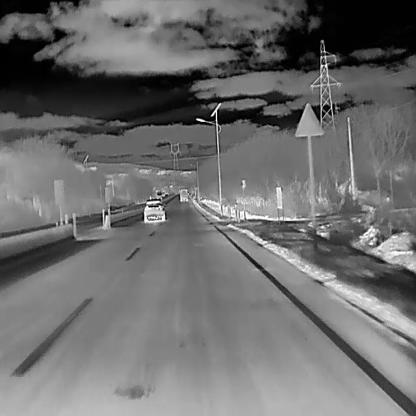bus: (178, 187, 189, 203), (155, 189, 162, 199)
car: (142, 198, 166, 224)
